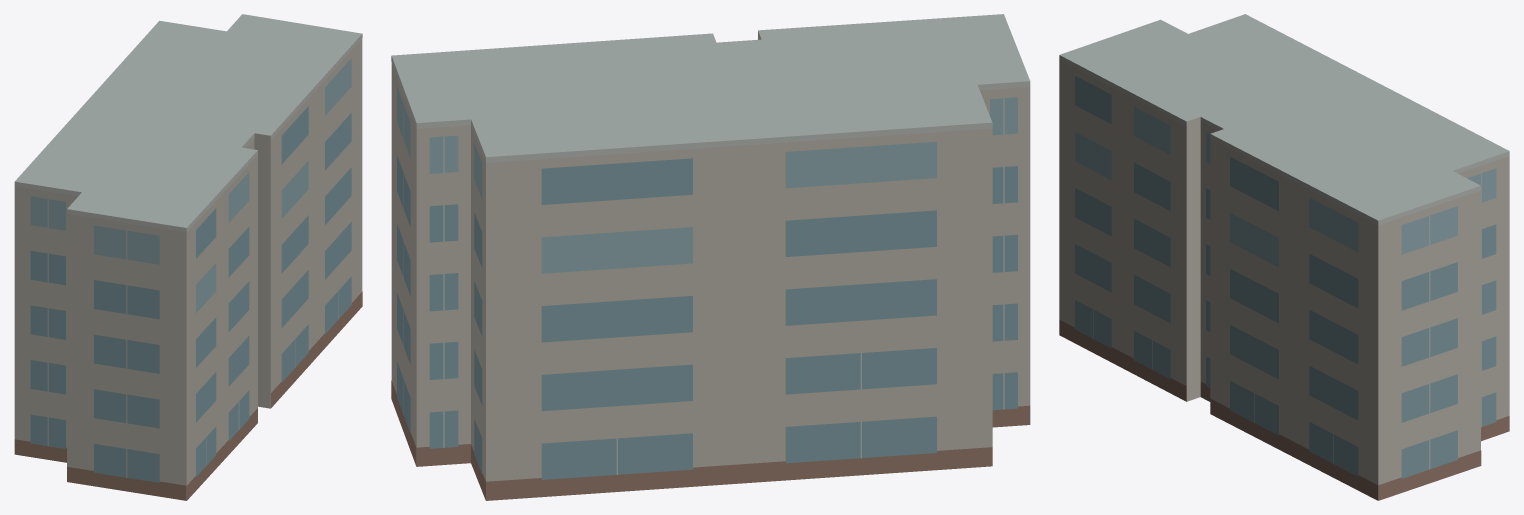
The model's file is survey-upis-32999067.glb.
The picture shows the model from 3 angles, left to right: view 1: azimuth 30°, elevation 25°; view 2: azimuth 150°, elevation 25°; view 3: azimuth 270°, elevation 25°; orthographic projection. The views are drawn at different scales.
Parts seen in each view (by area): view 1: survey-upis-32999067.tmp; view 2: survey-upis-32999067.tmp; view 3: survey-upis-32999067.tmp.
Part boxes in pixels (x1,y1,x2,y2): survey-upis-32999067.tmp: (14,14,362,500); survey-upis-32999067.tmp: (391,14,1030,500); survey-upis-32999067.tmp: (1059,14,1509,500).
Bounding box in the file's own units: 22.63 × 14.3 × 20.84.
